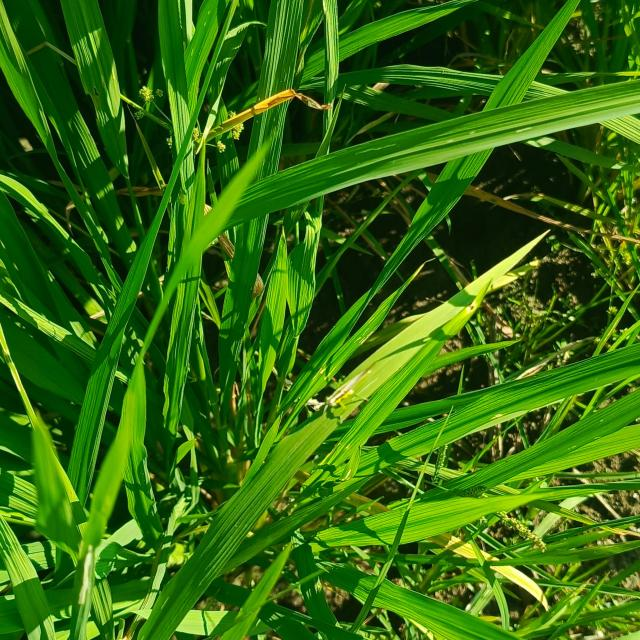belalang pada tanaman padi: (298, 361, 399, 421)
